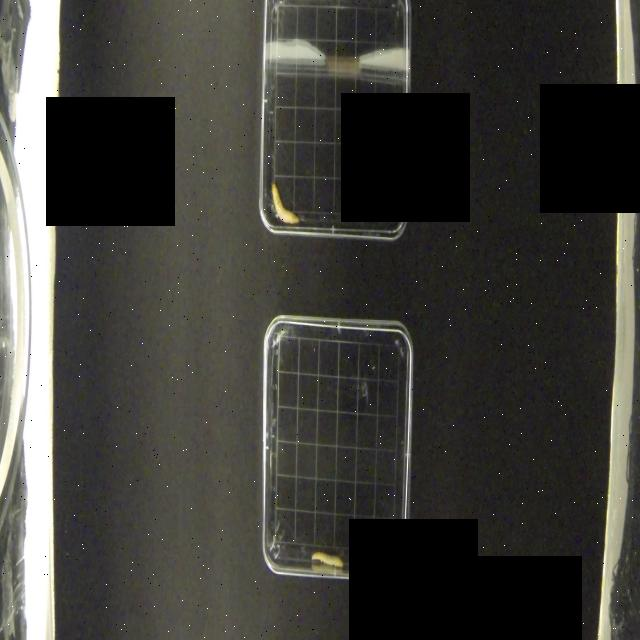larva: (270, 182, 300, 225), (310, 541, 348, 573)
